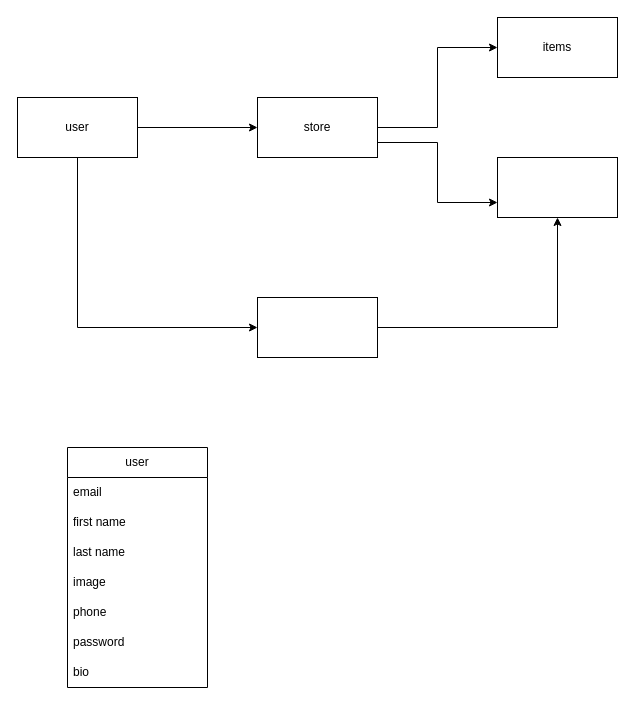
Some shapes in this 635 by 705 pixel diagram are drawn without their labels. The centre of each missing label's shape, as x and y in pixels:
"delivery" belongs at pixel 557 187.
"operator" belongs at pixel 317 327.
